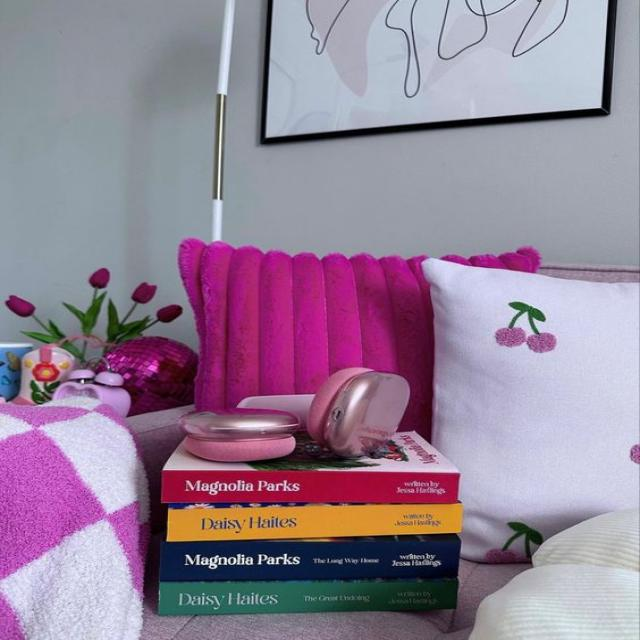book: (167, 503, 462, 541), (162, 544, 457, 576), (164, 470, 458, 502), (160, 581, 458, 611)
